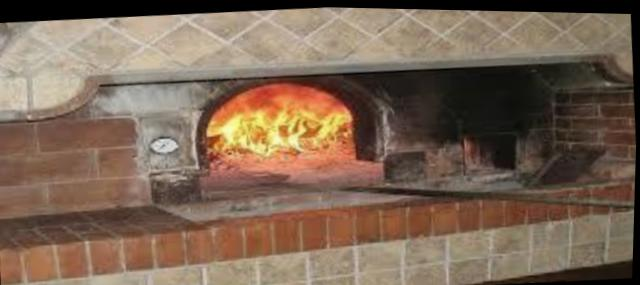fire: (196, 70, 373, 180)
